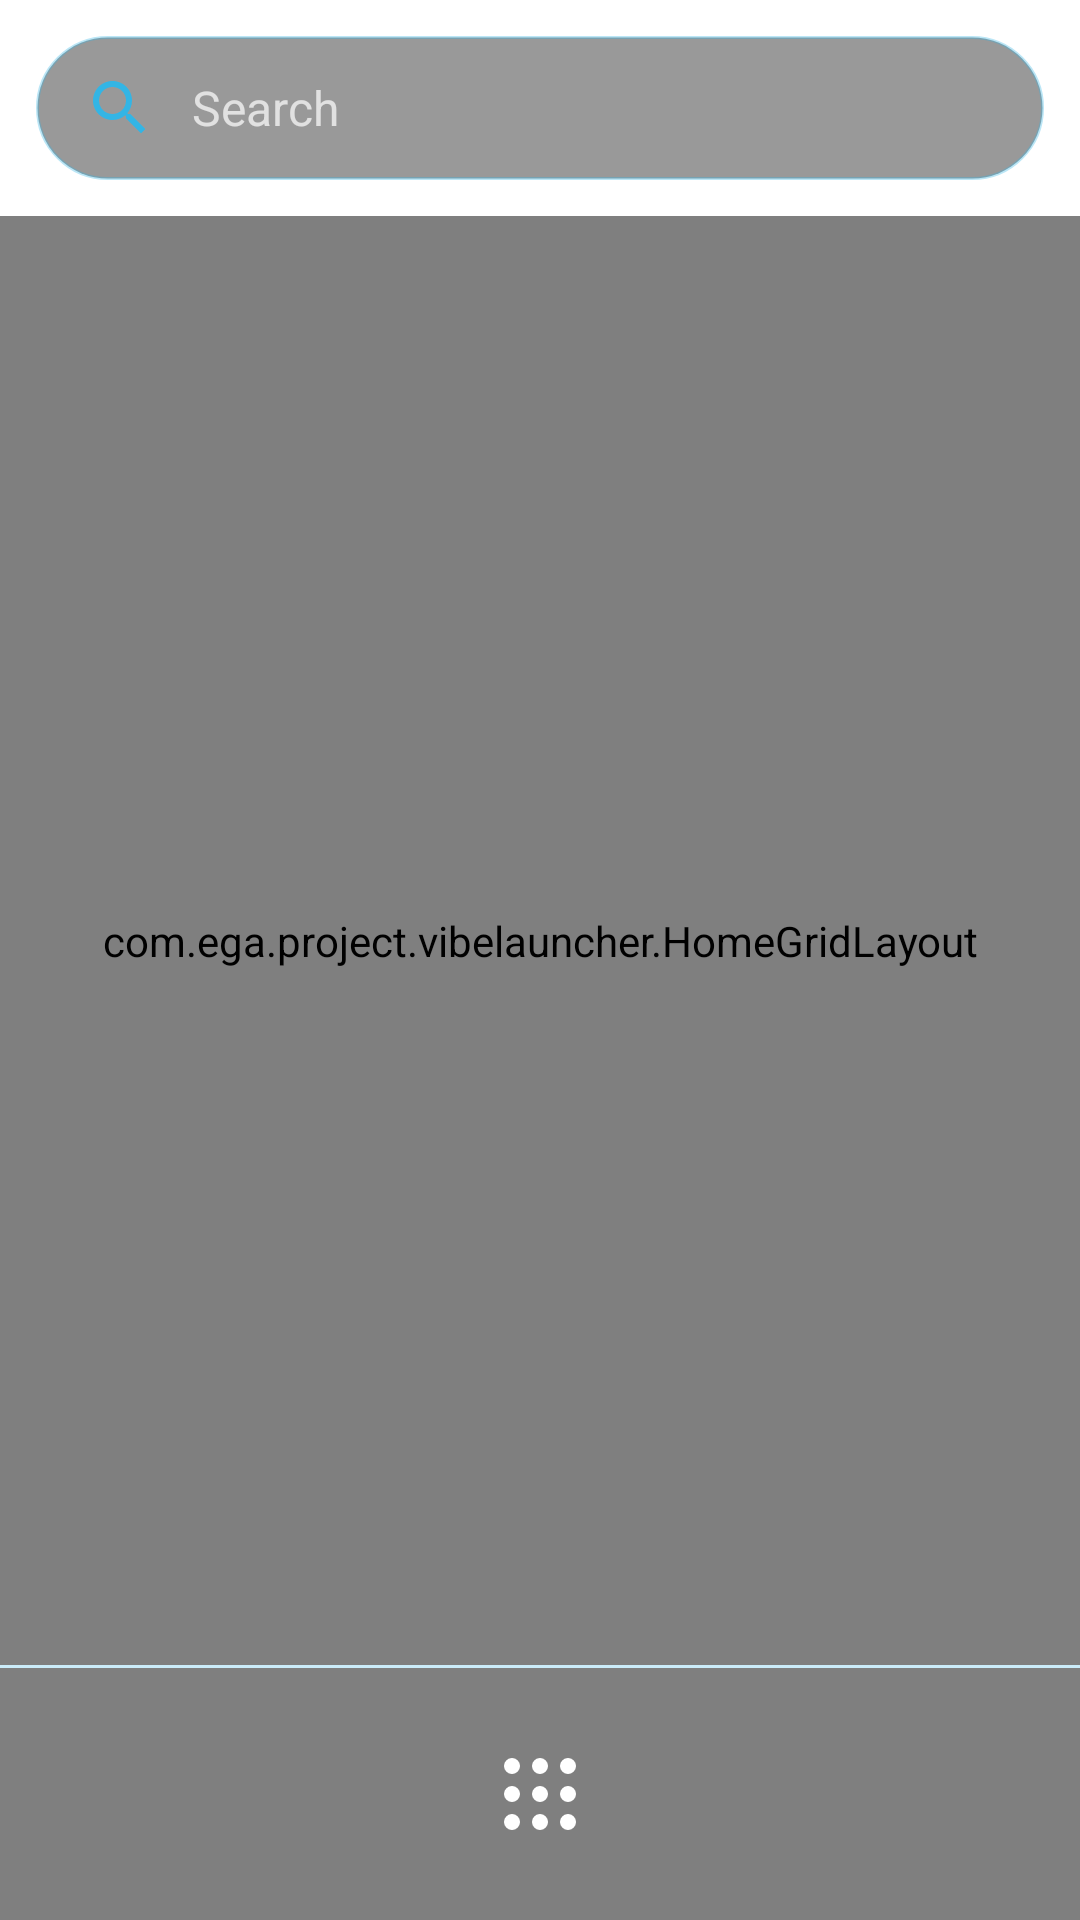

Locate icon controls on the screen. Image size 1080 x 1920, boxes as box(x1, y1, x2, y2).
Apps: box(504, 1758, 576, 1830)
